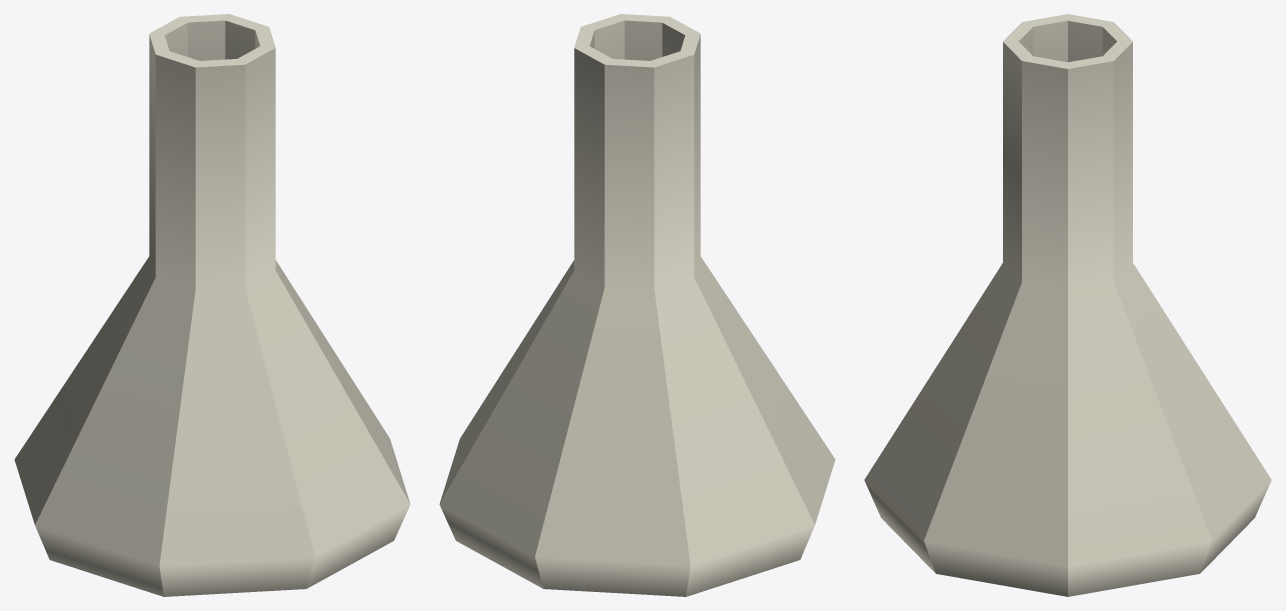
The model's file is flask.fbx.
3 renders of one model, left to right at view 1: azimuth 30°, elevation 25°; view 2: azimuth 150°, elevation 25°; view 3: azimuth 270°, elevation 25°, orthographic.
Visible parts, largest first — view 1: flask; view 2: flask; view 3: flask.
Part boxes in pixels (x1,y1,x2,y2): flask: (14,14,410,596); flask: (439,14,835,596); flask: (864,14,1271,596).
Bounding box in the file's own units: 17.48 × 22.56 × 17.48.
